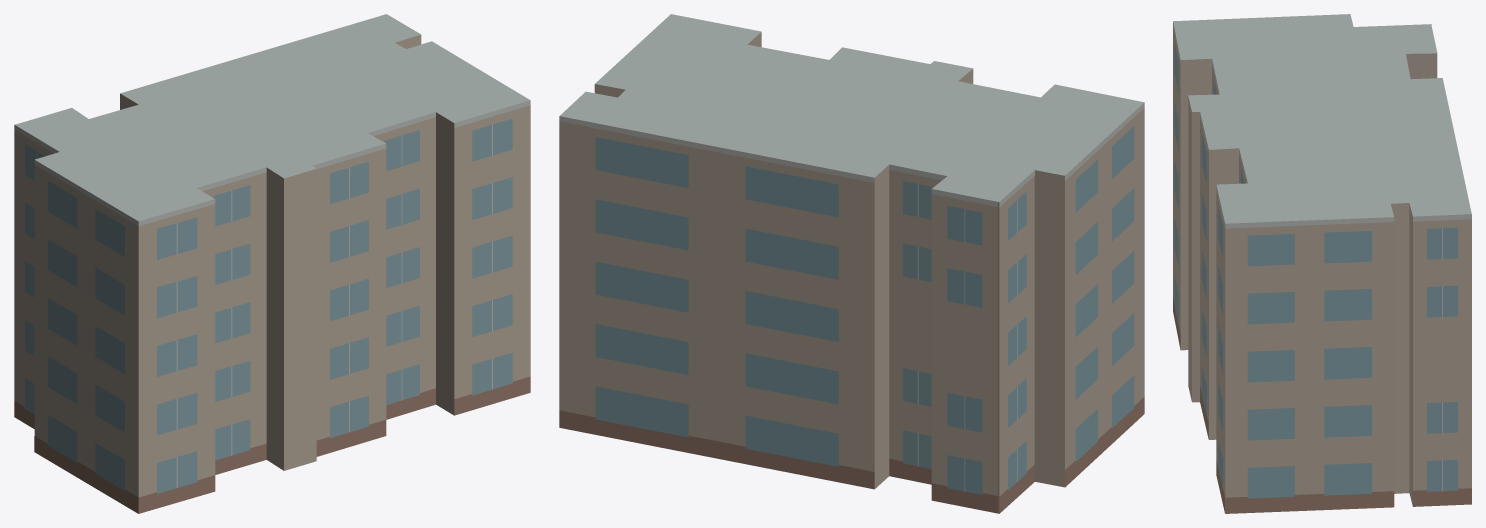
File: survey-upis-32608261.glb
3 renders of one model, left to right at view 1: azimuth 30°, elevation 25°; view 2: azimuth 150°, elevation 25°; view 3: azimuth 270°, elevation 25°, orthographic. The views are drawn at different scales.
Visible parts, largest first — view 1: survey-upis-32608261.tmp; view 2: survey-upis-32608261.tmp; view 3: survey-upis-32608261.tmp.
Boxes of the visible parts, bbox=[...] form: survey-upis-32608261.tmp: bbox=[14, 14, 530, 513]; survey-upis-32608261.tmp: bbox=[559, 14, 1144, 513]; survey-upis-32608261.tmp: bbox=[1173, 14, 1471, 513].
Bounding box in the file's own units: 22.16 × 14.3 × 13.35.
